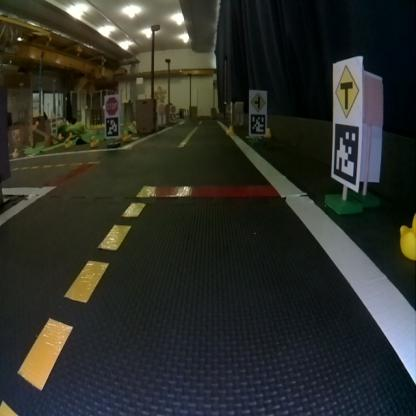Duckie: (399, 215, 415, 259), (89, 135, 99, 146), (121, 130, 130, 140), (64, 138, 72, 146), (12, 148, 19, 156), (226, 126, 233, 132)
Intersection sign: (334, 62, 360, 117), (250, 94, 266, 112)
QR code: (332, 122, 358, 186), (250, 114, 265, 132), (105, 116, 118, 136)
Stop sign: (104, 96, 118, 114)
